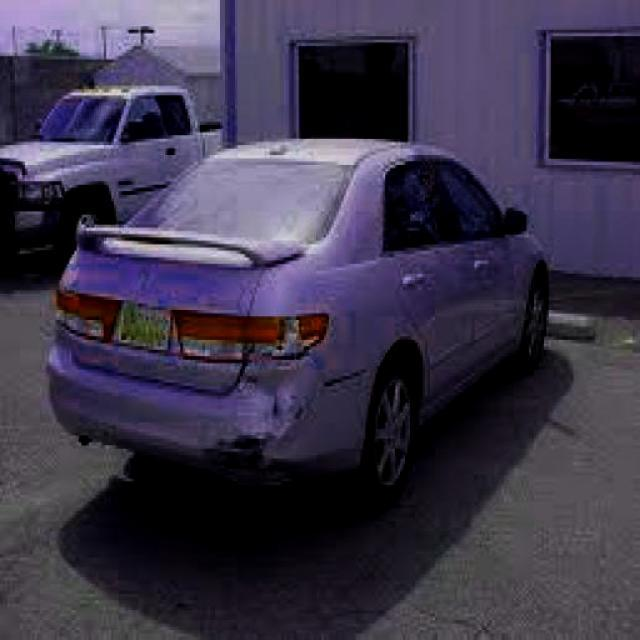car damage: (205, 318, 315, 478)
